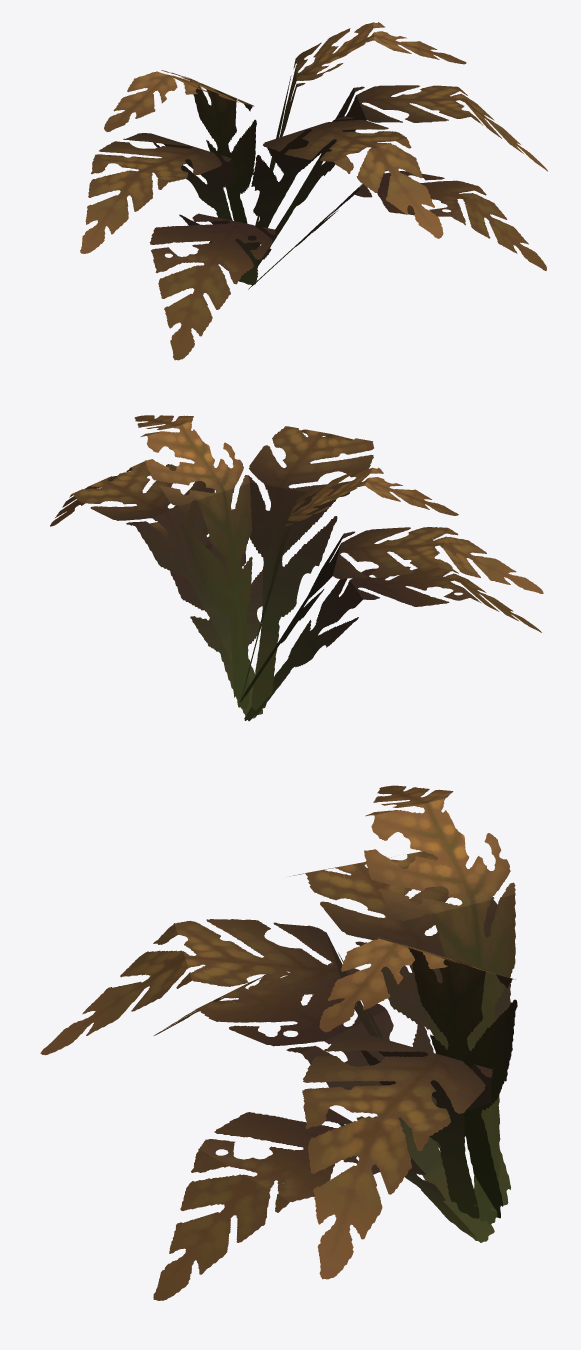
The model's file is broadleaf_dead_05.fbx.
3 renders of one model, top to bottom at view 1: azimuth 30°, elevation 25°; view 2: azimuth 150°, elevation 25°; view 3: azimuth 270°, elevation 25°, orthographic. The views are drawn at different scales.
Visible parts, largest first — view 1: obj0.267; view 2: obj0.267; view 3: obj0.267.
Part boxes in pixels (left/top/right/bottom): obj0.267: left=80, top=22, right=547, bottom=360; obj0.267: left=50, top=415, right=543, bottom=721; obj0.267: left=40, top=785, right=517, bottom=1300.
Bounding box in the file's own units: 2.9 × 1.35 × 1.78.
